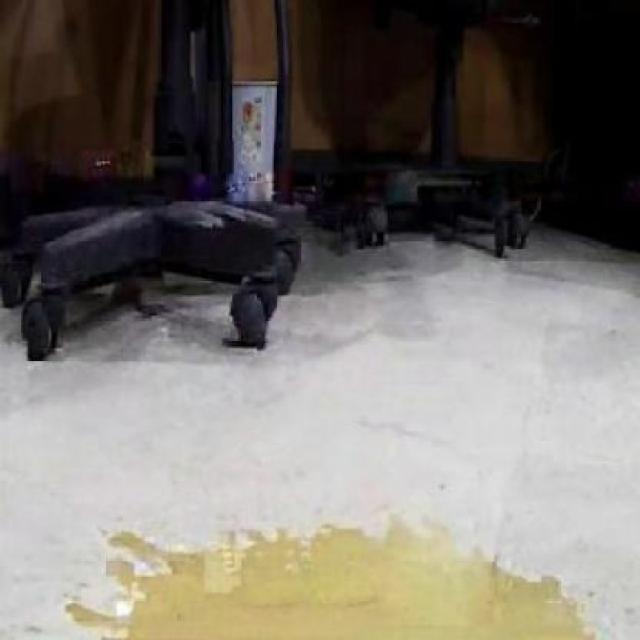spillage: (62, 528, 593, 640)
